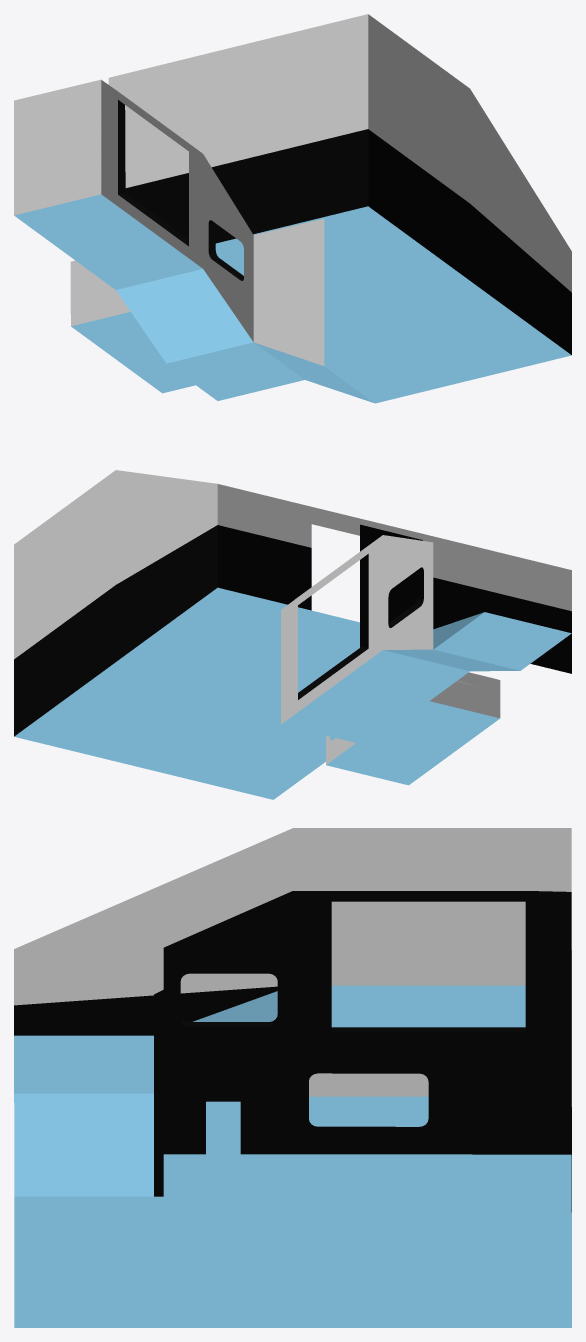
Rendered from rz_cont1_914.glb.
3 renders of one model, top to bottom at view 1: azimuth 30°, elevation 25°; view 2: azimuth 150°, elevation 25°; view 3: azimuth 270°, elevation 25°, orthographic. The views are drawn at different scales.
Visible parts, largest first — view 1: Cube; view 2: Cube; view 3: Cube.
Boxes of the visible parts, x1,y1,x2,y2 form: Cube: [14, 14, 571, 403]; Cube: [14, 470, 571, 799]; Cube: [14, 828, 571, 1327].
Size of the model in its own units: 31.12 by 16.16 by 31.01.
